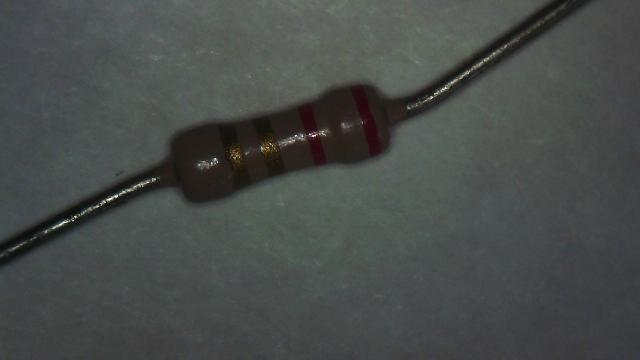gold: (220, 124, 249, 188), (254, 116, 284, 176)
red: (351, 85, 380, 156), (298, 104, 326, 166)
resistor: (142, 56, 420, 224)
